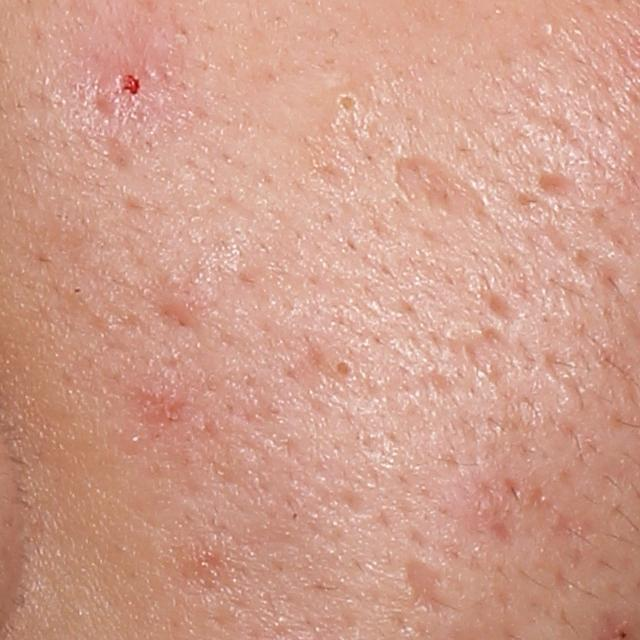atrophic_scar: (390, 153, 502, 237), (428, 330, 531, 406), (382, 350, 460, 418), (398, 556, 460, 623), (536, 159, 591, 216), (142, 291, 204, 335), (479, 272, 527, 324), (98, 135, 141, 174)
comedo: (332, 89, 364, 120), (69, 280, 91, 302)
papule: (90, 57, 156, 124)
